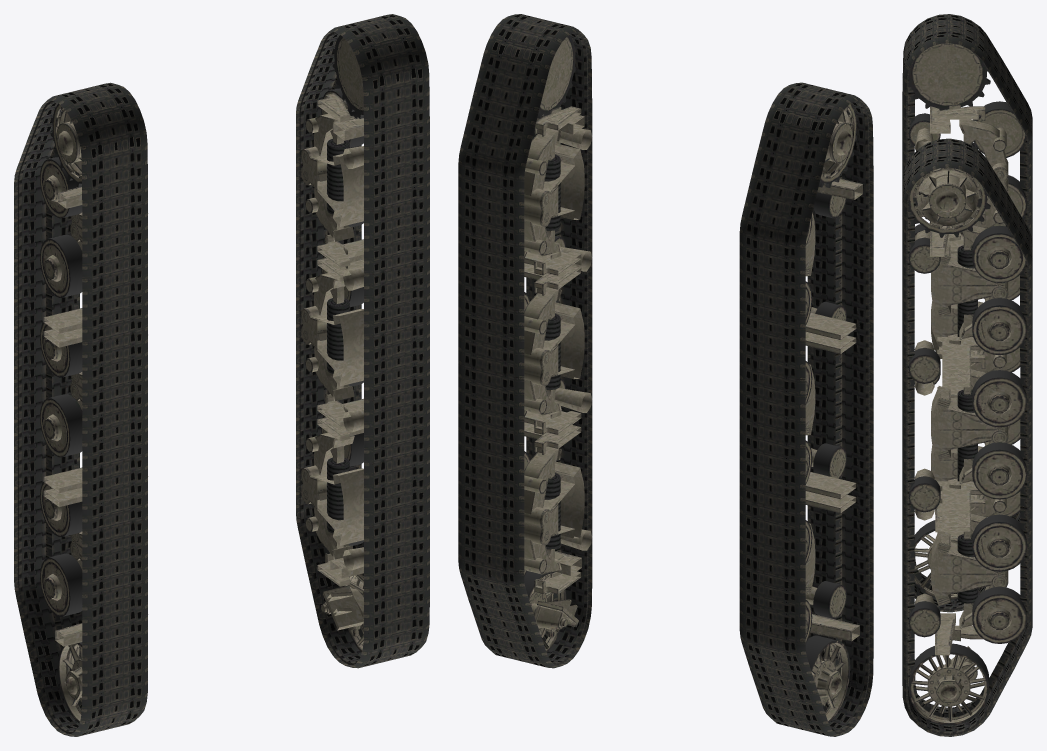
Rendered from Chassis.glb.
The picture shows the model from 3 angles, left to right: view 1: azimuth 30°, elevation 25°; view 2: azimuth 150°, elevation 25°; view 3: azimuth 270°, elevation 25°; orthographic projection. The views are drawn at different scales.
Visible parts, largest first — view 1: set_0_group_0, set_1_group_0, set_3_group_0, set_2_group_0; view 2: set_0_group_0, set_1_group_0, set_3_group_0, set_2_group_0; view 3: set_3_group_0, set_1_group_0, set_2_group_0, set_0_group_0.
Boxes of the visible parts, bbox=[...] form: set_0_group_0: bbox=[14, 82, 147, 736]; set_1_group_0: bbox=[296, 14, 429, 668]; set_3_group_0: bbox=[301, 35, 363, 652]; set_2_group_0: bbox=[40, 103, 148, 723]; set_0_group_0: bbox=[739, 82, 873, 736]; set_1_group_0: bbox=[458, 14, 592, 668]; set_3_group_0: bbox=[524, 35, 592, 652]; set_2_group_0: bbox=[805, 103, 862, 723]; set_3_group_0: bbox=[908, 167, 1027, 725]; set_1_group_0: bbox=[902, 138, 1032, 736]; set_2_group_0: bbox=[908, 43, 1027, 599]; set_0_group_0: bbox=[902, 14, 1032, 612].
Bounding box in the file's own units: 3.76 × 6.45 × 1.32.
4 materials, 4 textured.
